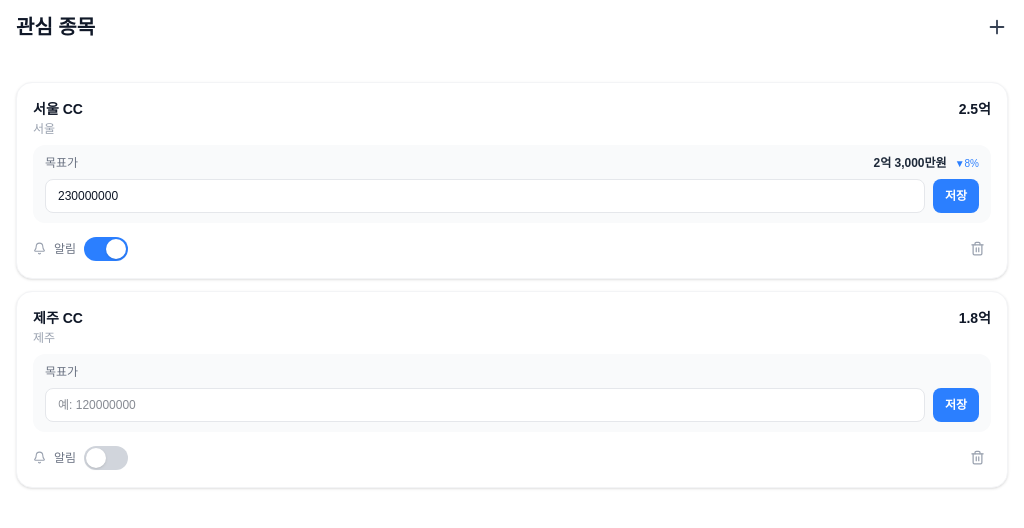
Scenario: WatchlistPage › 목표가가 없으면 알림을 활성화하지 않는다
What coordinates should you click on to do the following:
click the switch below "제주 CC"
I would click on:
 (106, 458)
Its box is [84, 446, 128, 470].
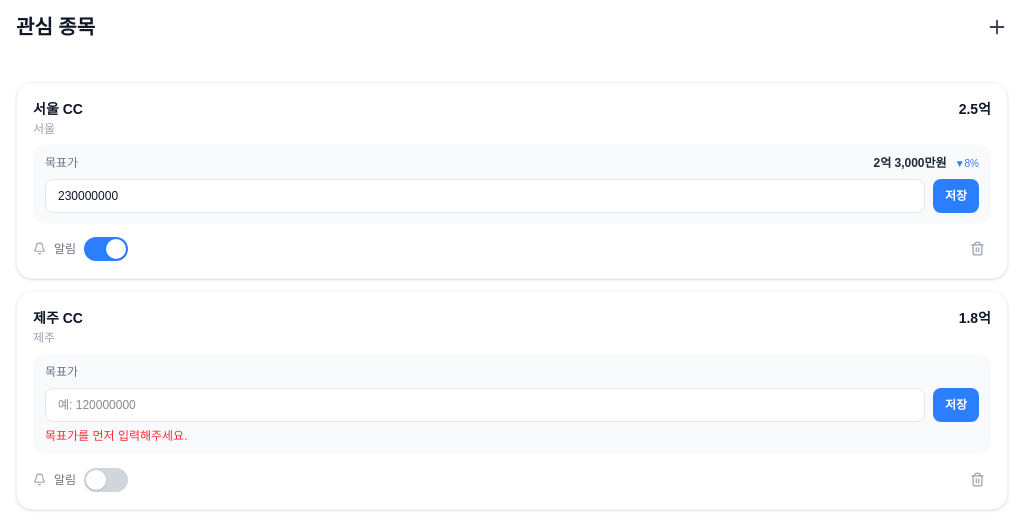
expect the message reads "목표가를 먼저 입력해주세요.": met, box [45, 429, 188, 443]
